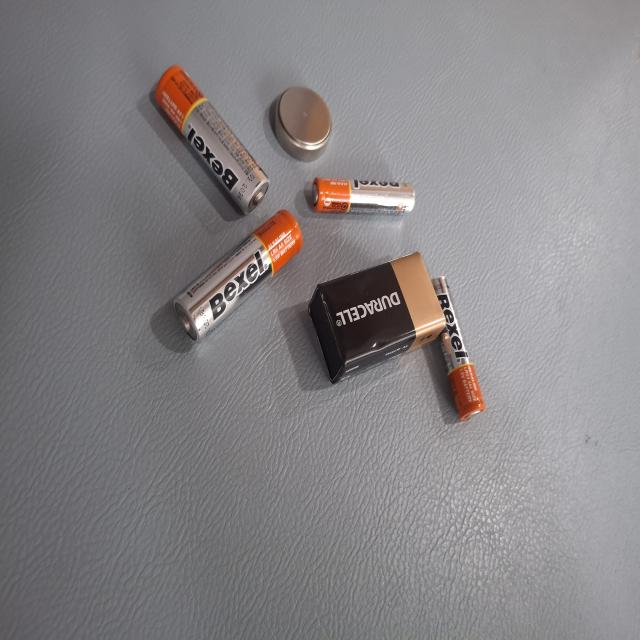9V: (188, 259, 288, 440)
AA: (48, 493, 162, 640), (157, 450, 254, 619)
AAA: (206, 208, 313, 281), (133, 302, 160, 437)
COIN: (63, 411, 121, 490)
